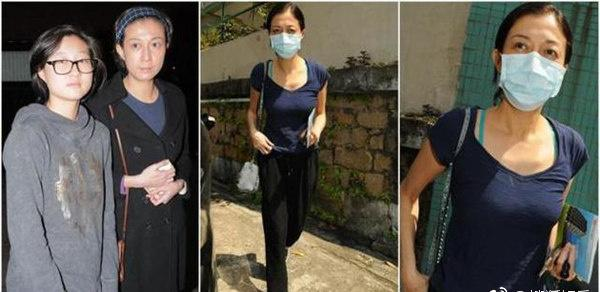face: (46, 42, 92, 99), (123, 27, 166, 77)
face_mask: (502, 22, 566, 112), (270, 16, 302, 59)
